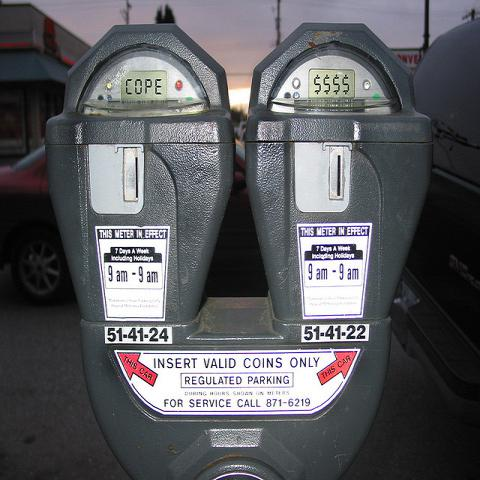car: (398, 17, 479, 402), (0, 144, 68, 304)
